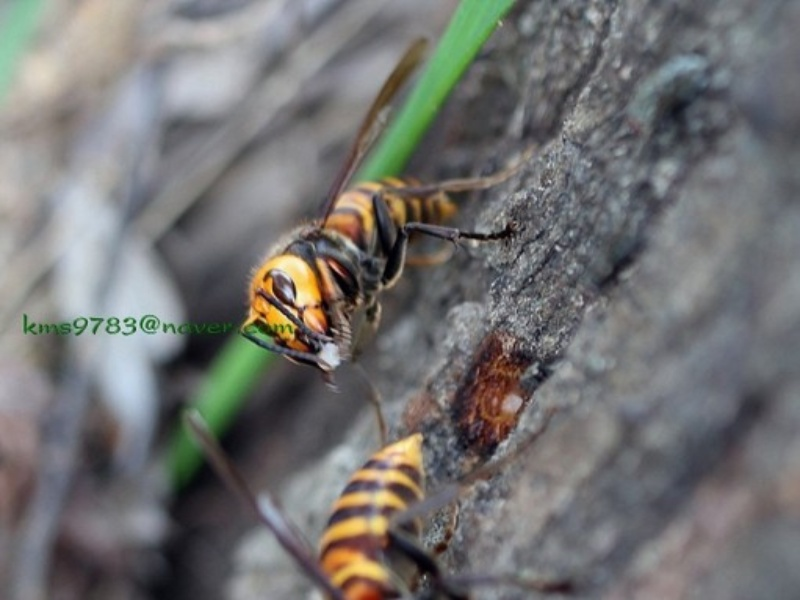asian_giant_hornet: (241, 34, 518, 368), (235, 416, 476, 600)
